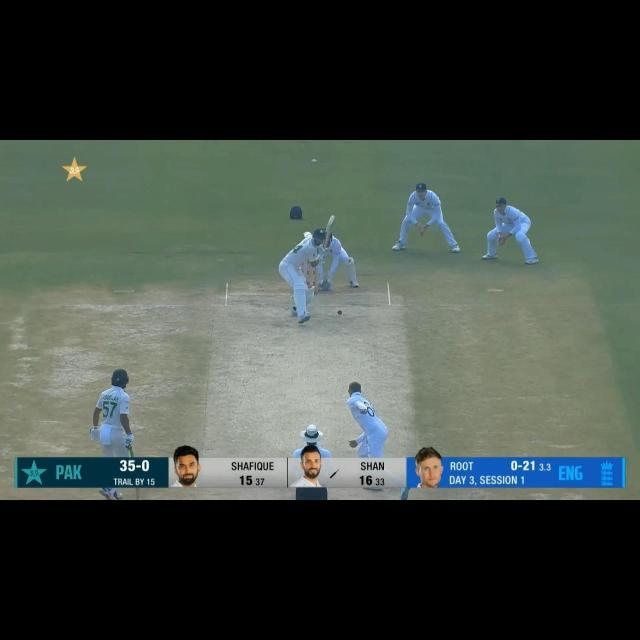bat: (323, 212, 335, 250)
toe: (328, 214, 337, 225)
